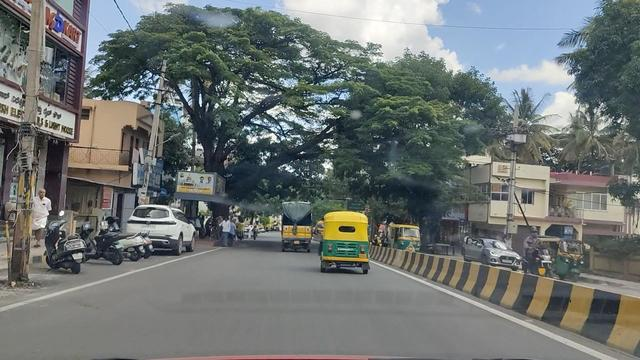HMV: (282, 198, 312, 250)
LMV: (324, 215, 368, 270)
